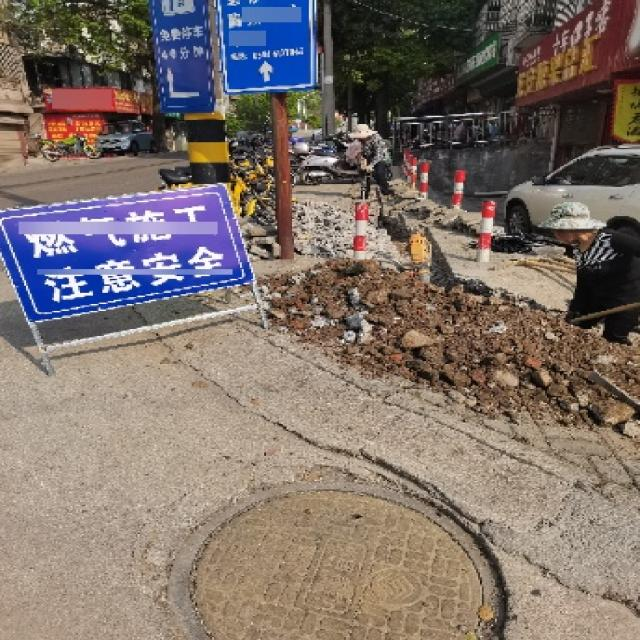Good: (153, 463, 532, 640)
